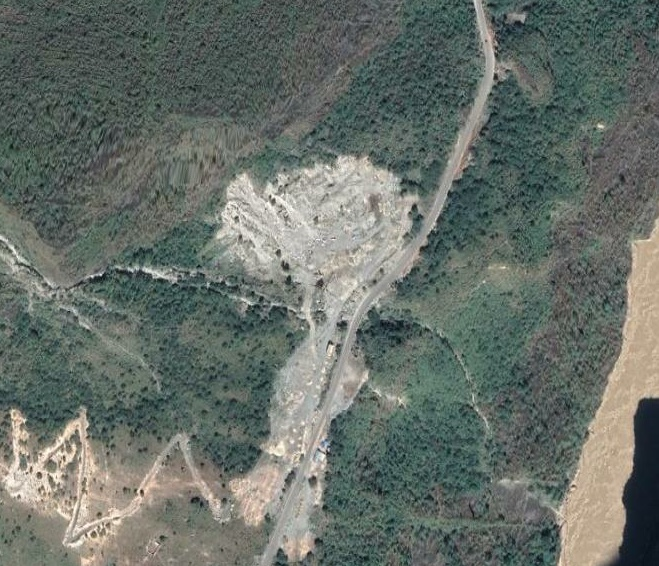slope: (214, 149, 426, 531), (282, 352, 365, 563)
